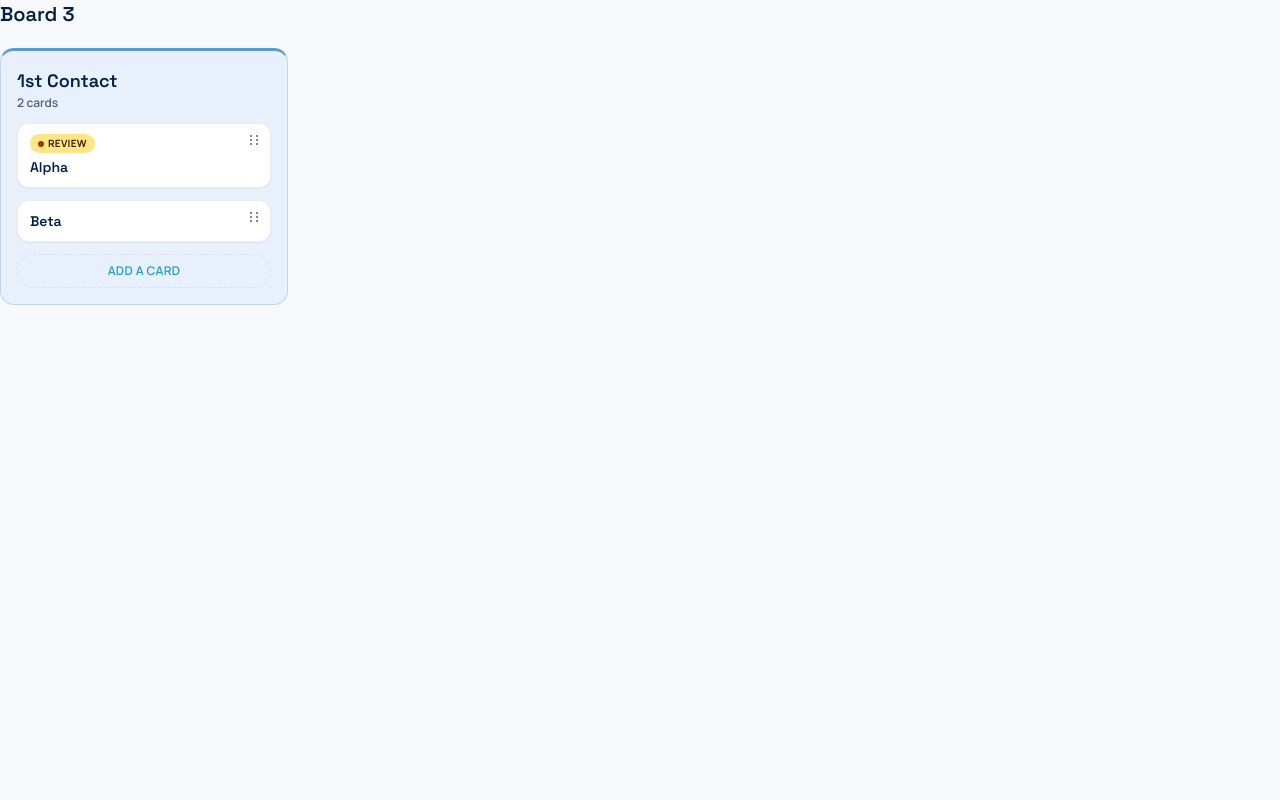
Test: central card reviews: markers on the cards and a dialog per obligation › opens the review dialog from the marker with category, status, who, when and the before and after values
The width and height of the screenshot is (1280, 800).
Click the button with test id "review-marker-11" at (62, 144), box [30,134,95,153]
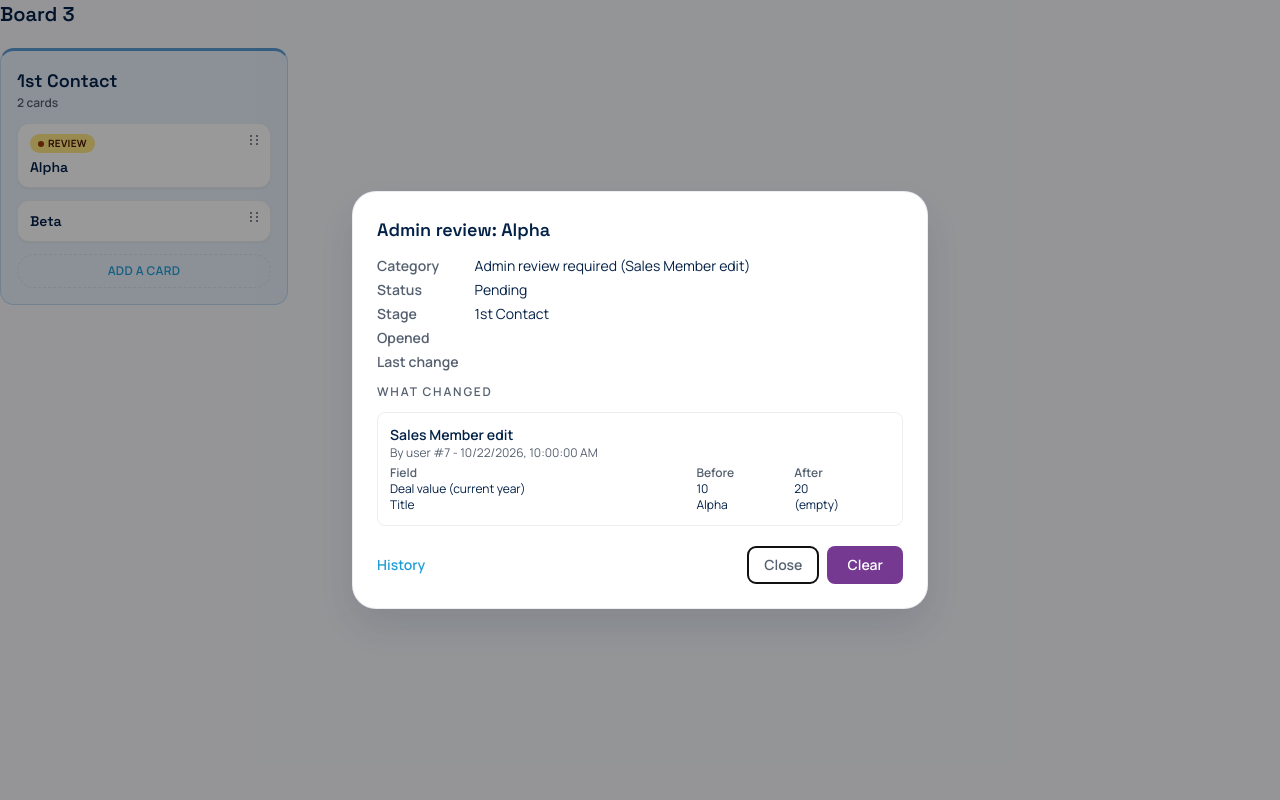
Check: the text "Admin review required (Sales Member edit)" is shown, box [475,256,750,275]
Check: the text with test id "review-status" reads "Pending", box [475,280,527,299]
Check: the list item with test id "review-trigger" shows "Sales Member edit", box [390,425,513,444]
Click the button "Close" at (783, 565), box [747,546,820,584]
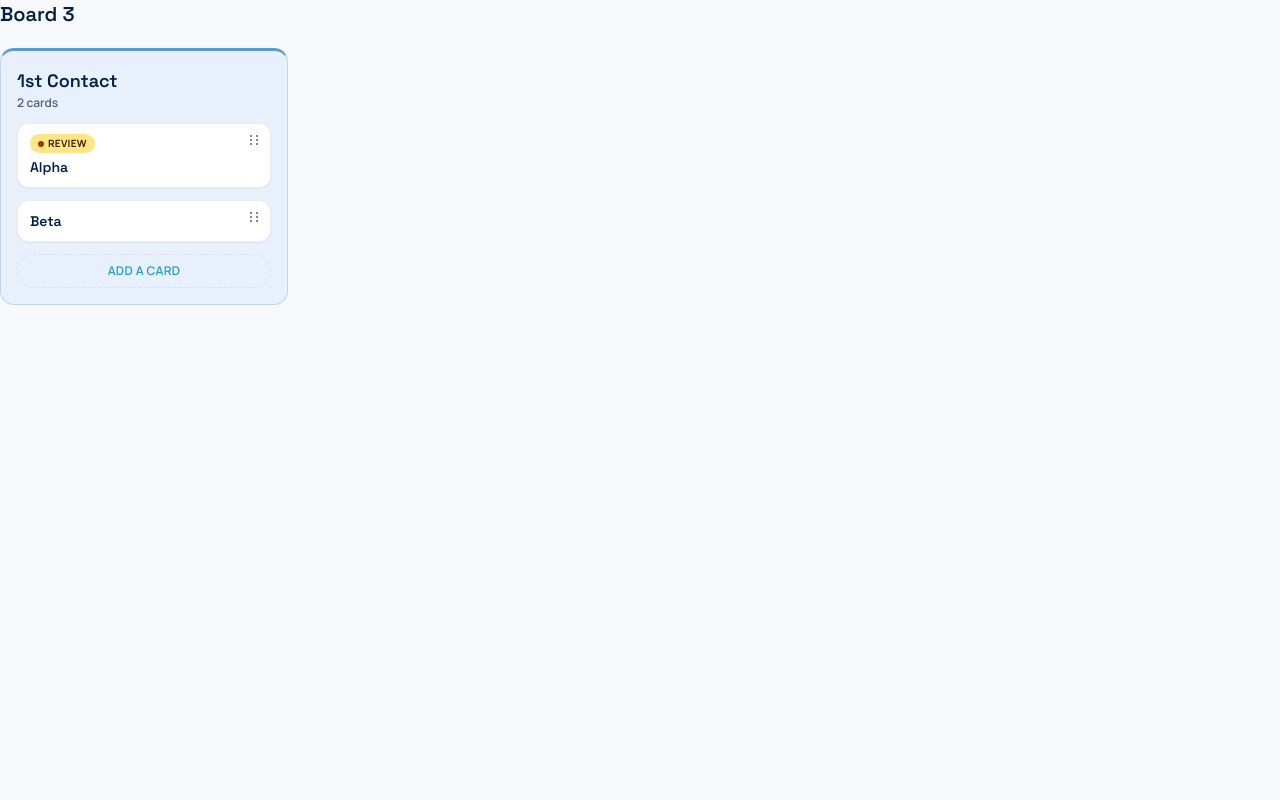
Check: the dialog is gone
Click the button with test id "review-marker-11" at (62, 144), box [30,134,95,153]
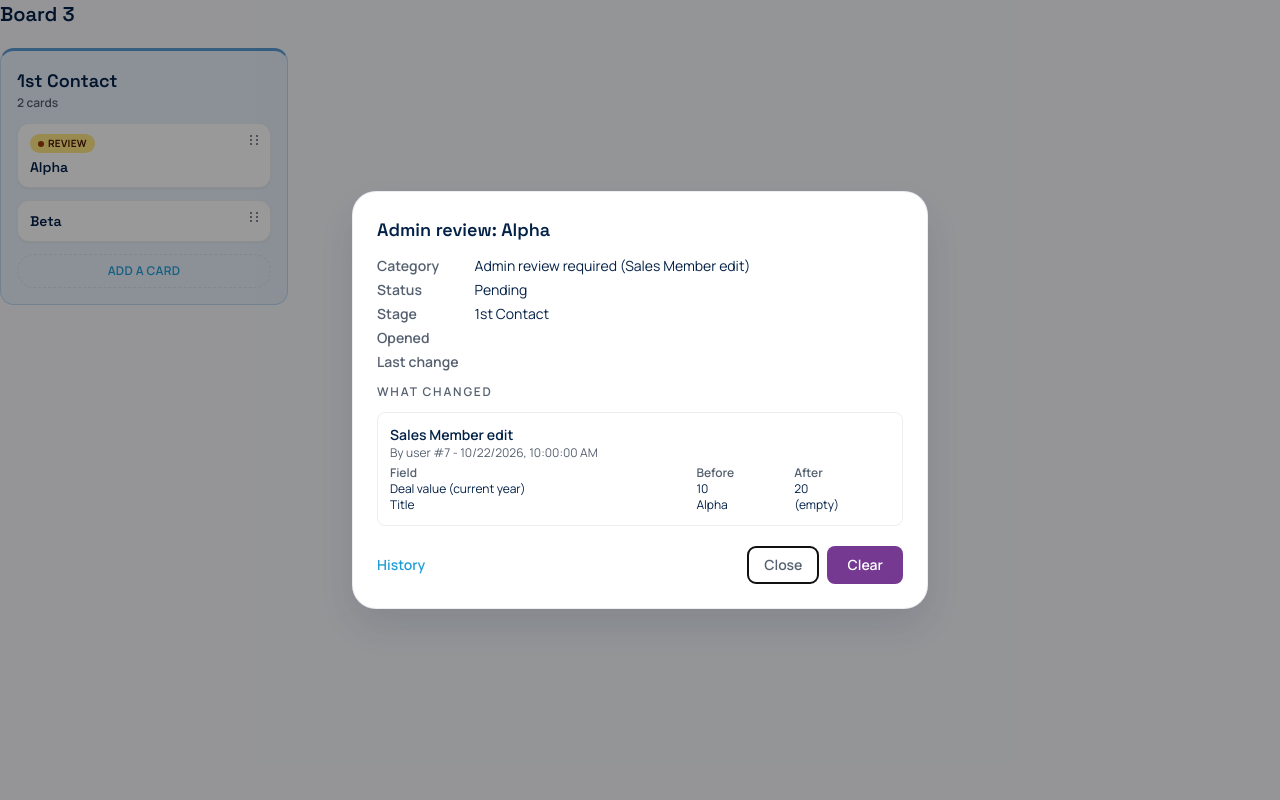
Press Escape
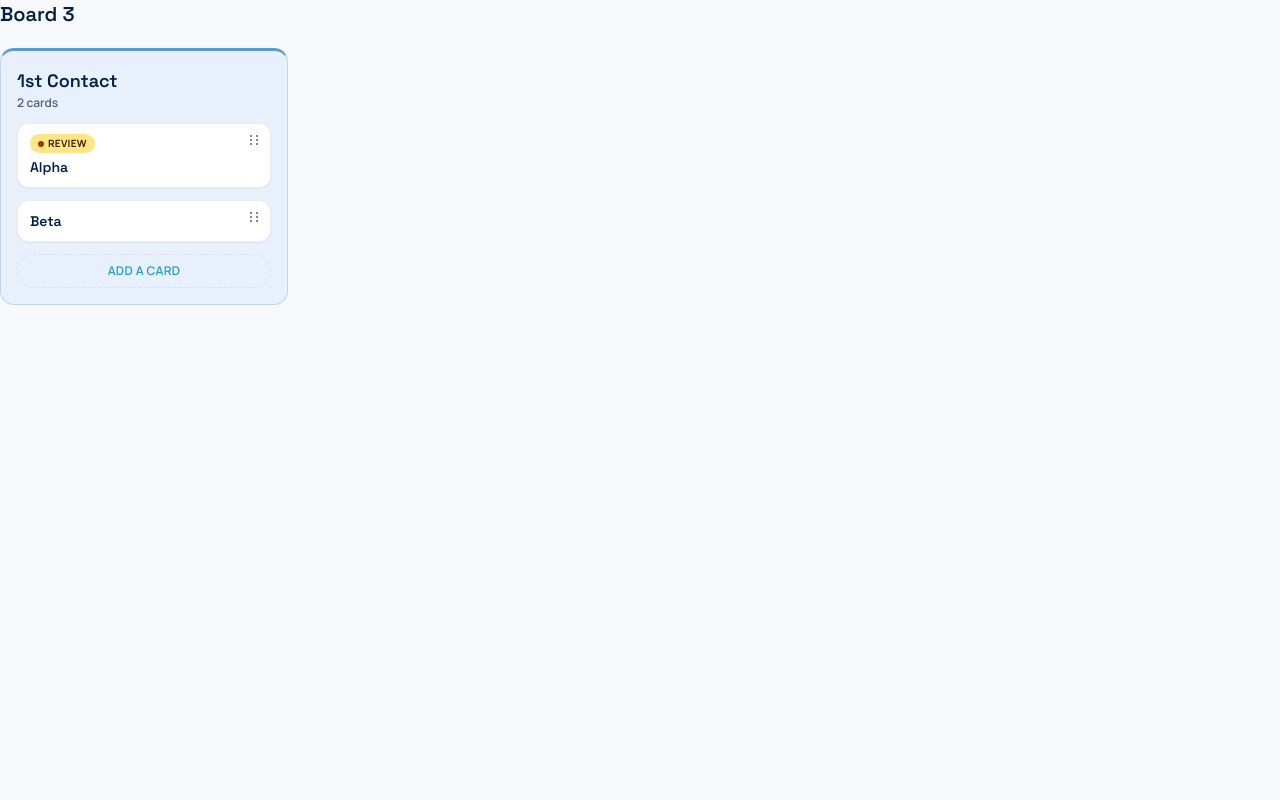
Check: the dialog is gone
